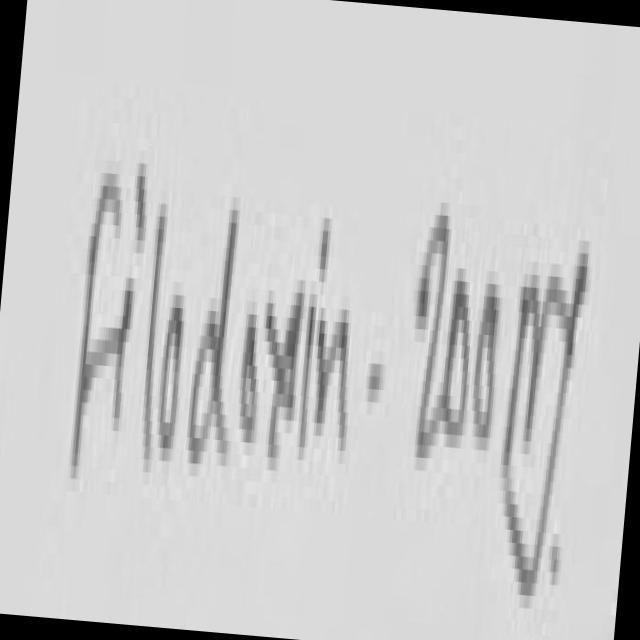0: (461, 250, 512, 518), (434, 255, 482, 488)
2: (382, 171, 462, 522)
F: (44, 111, 136, 496)
d: (172, 162, 257, 518)
g: (480, 198, 605, 640)
i: (100, 108, 159, 470), (292, 176, 334, 480)
l: (126, 157, 182, 512)
m: (496, 223, 574, 464)
n: (302, 271, 364, 508)
o: (144, 269, 197, 511), (224, 272, 271, 486)
x: (250, 245, 314, 484)
